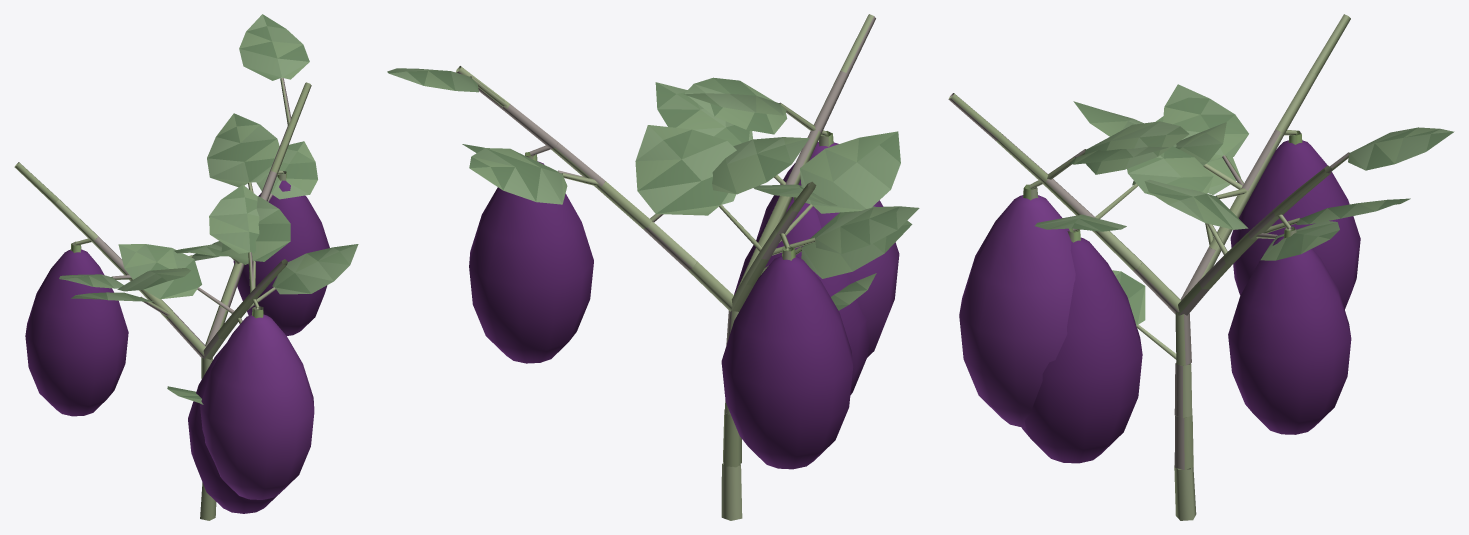
The model's file is aubergine_longue_mur.glb.
3 views of the same model, side by side, from view 1: azimuth 30°, elevation 25°; view 2: azimuth 150°, elevation 25°; view 3: azimuth 270°, elevation 25° (orthographic). The views are drawn at different scales.
Visible parts, largest first — view 1: Aubergine_Fruits, Aubergine_Feuilles, Aubergine_Tiges; view 2: Aubergine_Fruits, Aubergine_Feuilles, Aubergine_Tiges; view 3: Aubergine_Fruits, Aubergine_Feuilles, Aubergine_Tiges, Aubergine_Calices.
Part boxes in pixels (x1=…): Aubergine_Fruits: x1=25, y1=180, x2=329, y2=513; Aubergine_Feuilles: x1=59, y1=14, x2=358, y2=404; Aubergine_Tiges: x1=14, y1=77, x2=311, y2=520; Aubergine_Fruits: x1=469, y1=142, x2=899, y2=469; Aubergine_Feuilles: x1=387, y1=68, x2=919, y2=310; Aubergine_Tiges: x1=456, y1=14, x2=875, y2=520; Aubergine_Fruits: x1=959, y1=140, x2=1360, y2=463; Aubergine_Feuilles: x1=1035, y1=84, x2=1454, y2=325; Aubergine_Tiges: x1=948, y1=14, x2=1350, y2=520; Aubergine_Calices: x1=1023, y1=130, x2=1302, y2=242.
Size of the model in its own units: 0.6074 by 0.6938 by 0.6567.
